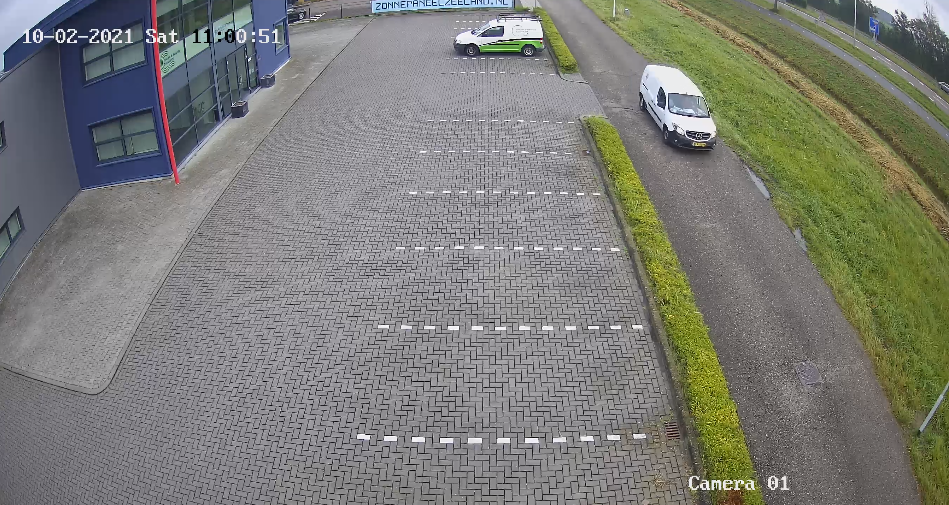werkbus: (628, 57, 726, 157), (446, 10, 553, 63)
